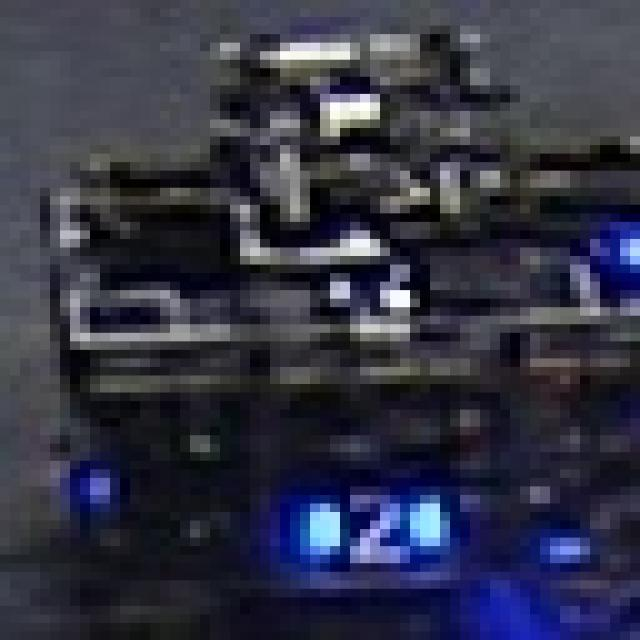B2: (300, 478, 440, 563)
